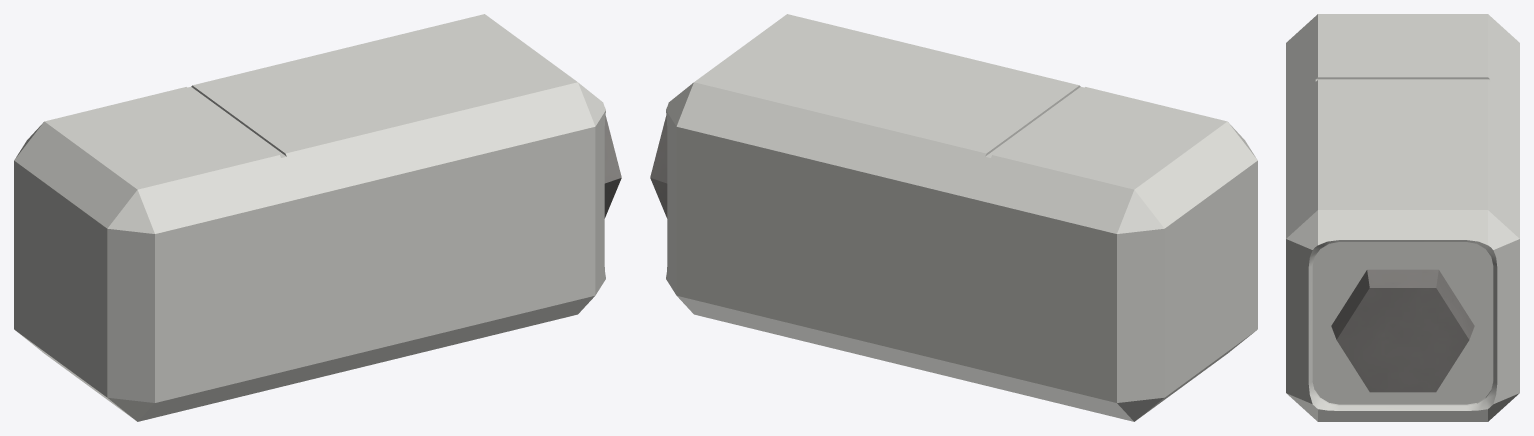
The model's file is ax_gear_12_deployable_boom_m.glb.
3 views of the same model, side by side, from view 1: azimuth 30°, elevation 25°; view 2: azimuth 150°, elevation 25°; view 3: azimuth 270°, elevation 25° (orthographic). The views are drawn at different scales.
Parts seen in each view (by area): view 1: boom_canister, boom_tip; view 2: boom_canister, boom_tip; view 3: boom_canister, boom_tip.
Boxes of the visible parts, x1,y1,x2,y2 form: boom_canister: [14, 14, 605, 421]; boom_tip: [604, 116, 621, 218]; boom_canister: [666, 14, 1257, 421]; boom_tip: [650, 116, 667, 218]; boom_canister: [1286, 14, 1519, 421]; boom_tip: [1331, 269, 1474, 392].
Bounding box in the file's own units: 1.46 × 0.616 × 0.616.
2 materials, 1 textured.
